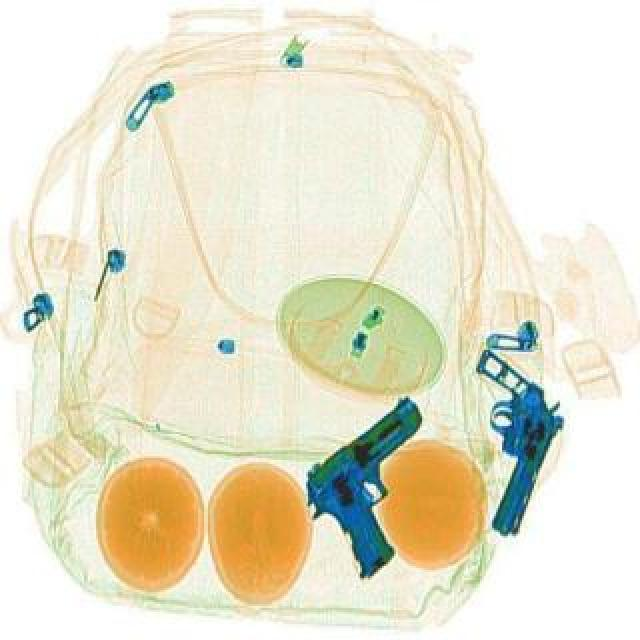gun: (282, 396, 494, 584), (420, 350, 584, 542)
